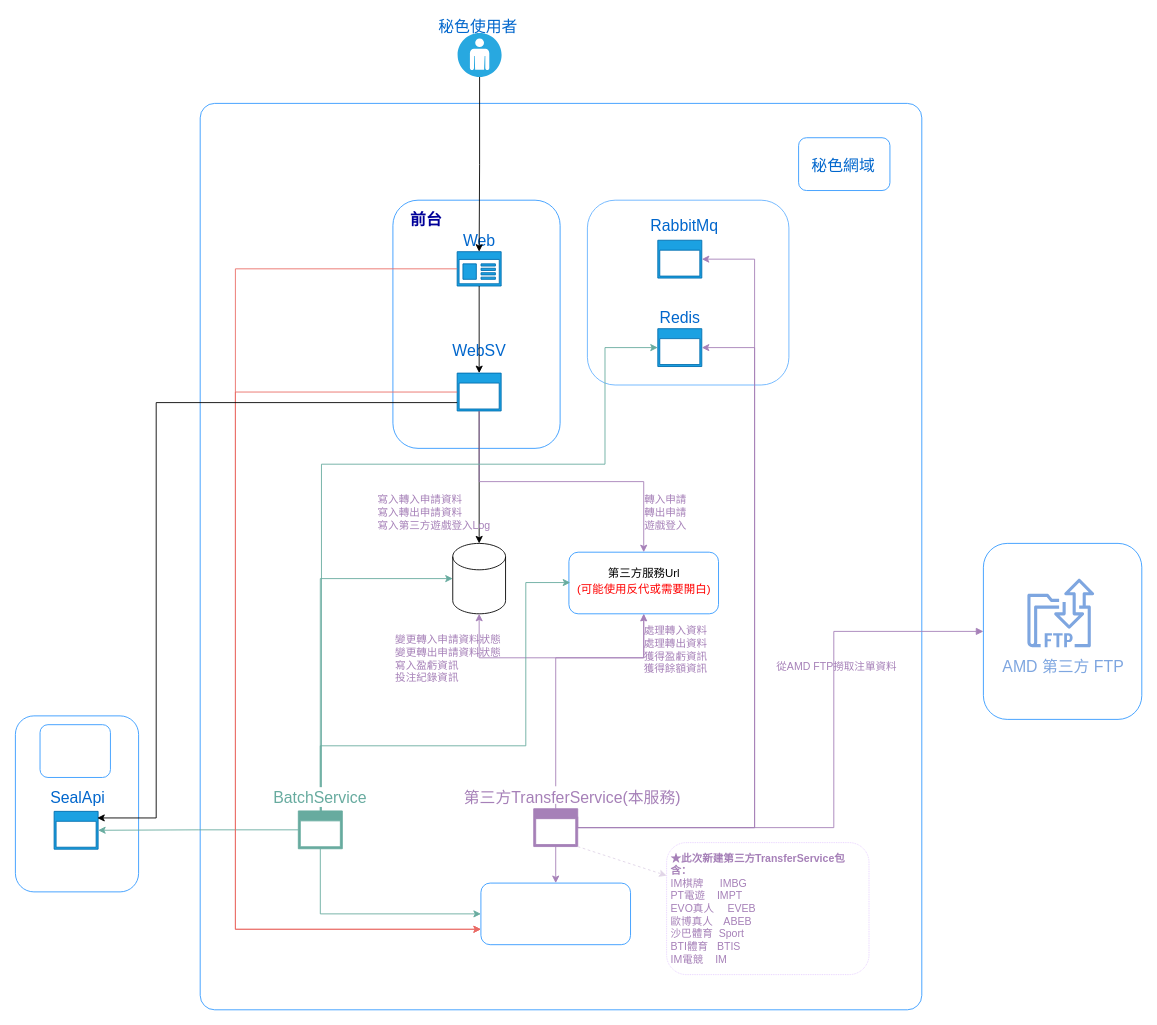
Some shapes in this 1157 by 1025 pixel diagram are drawn without their labels. The shapes that lost their labels are listed below. From the top down, each one's box as (x1, y1, x2, y2) in pixels, then its label:
(452, 543, 506, 614): MS_Lottery InloDb
(39, 724, 110, 777): Seal
(480, 882, 631, 945): TelegramApiUrl https://api.telegram.org 發送告警使用 (需要開白)
